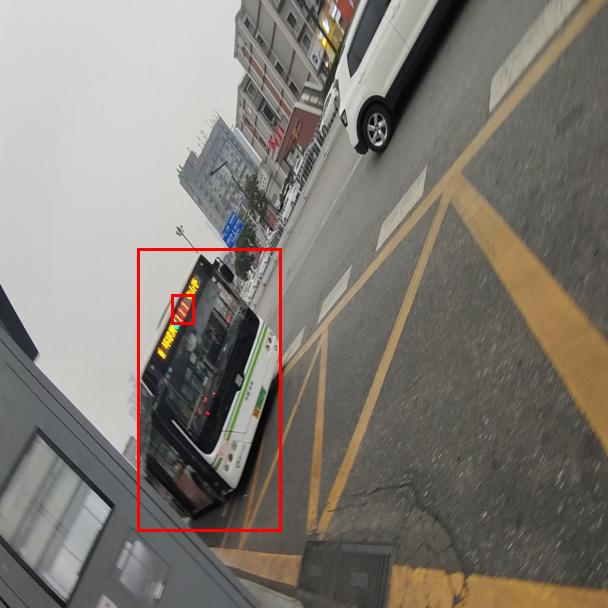bus: (137, 248, 281, 531)
screen: (171, 294, 194, 324)
